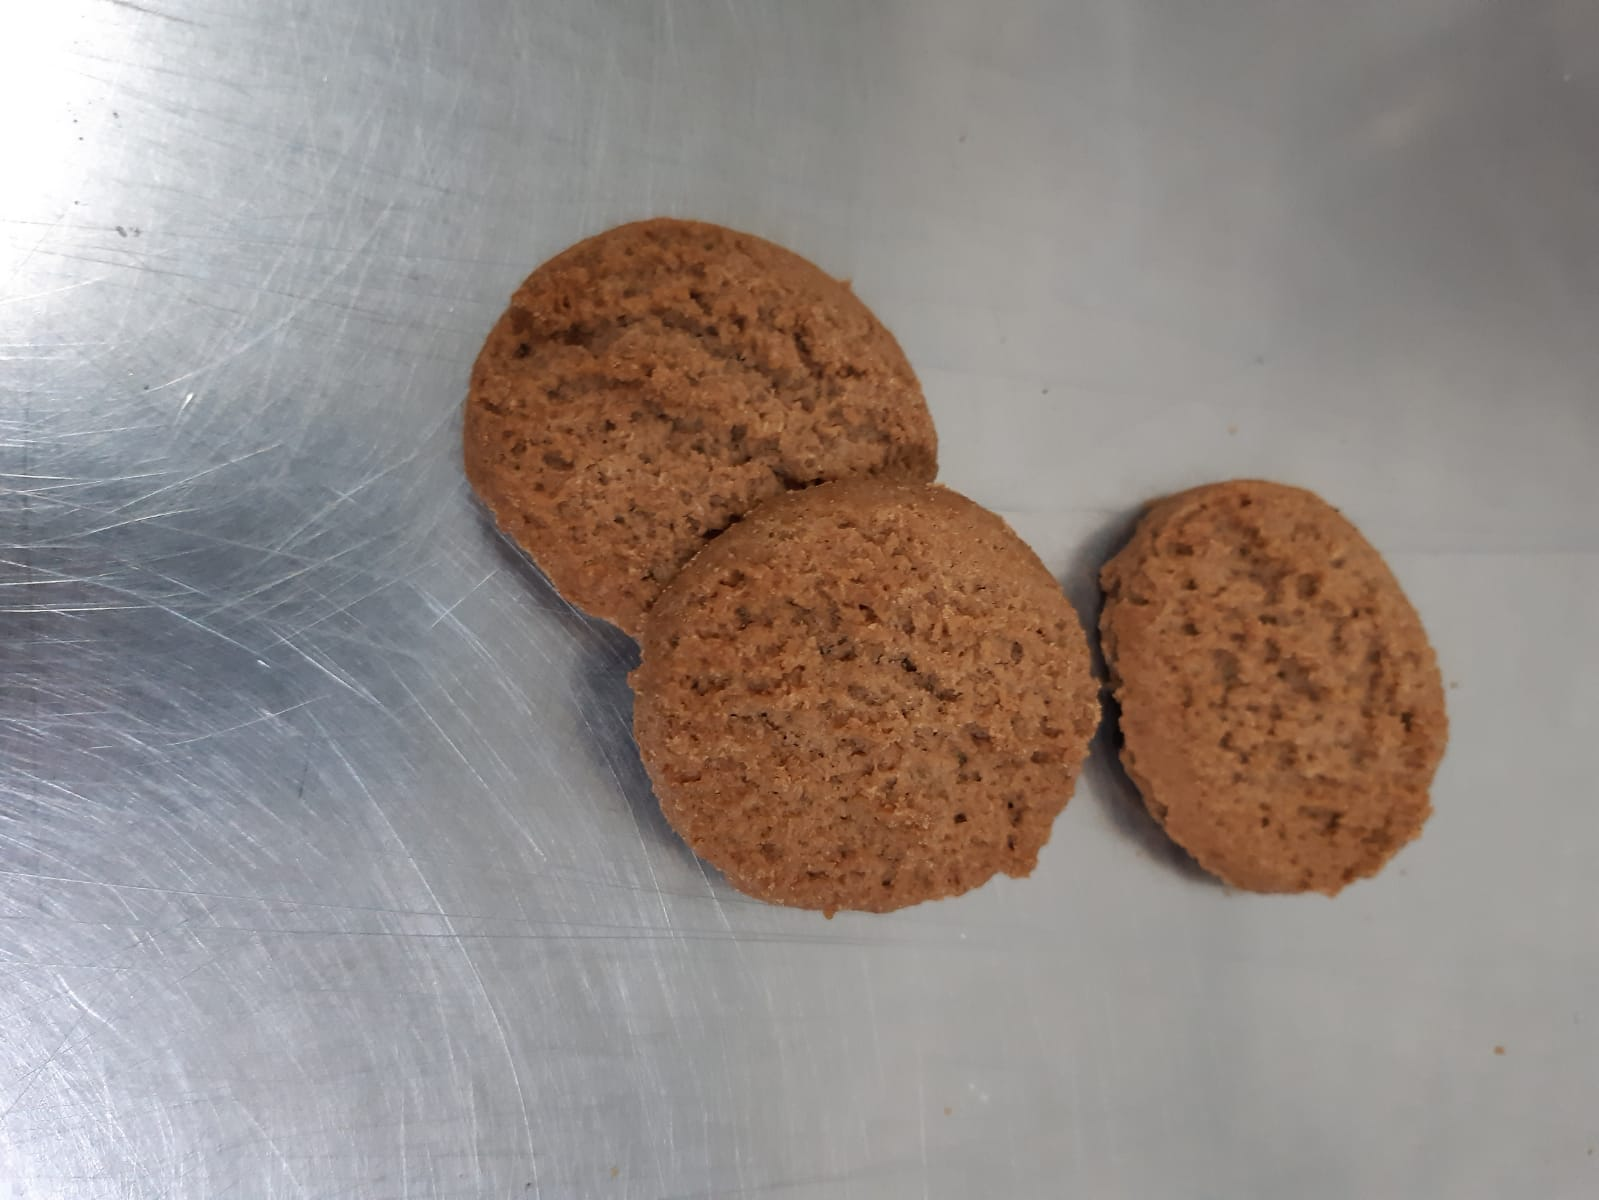Cookie3: (629, 473, 1101, 913), (469, 218, 937, 658), (1104, 478, 1450, 897)
